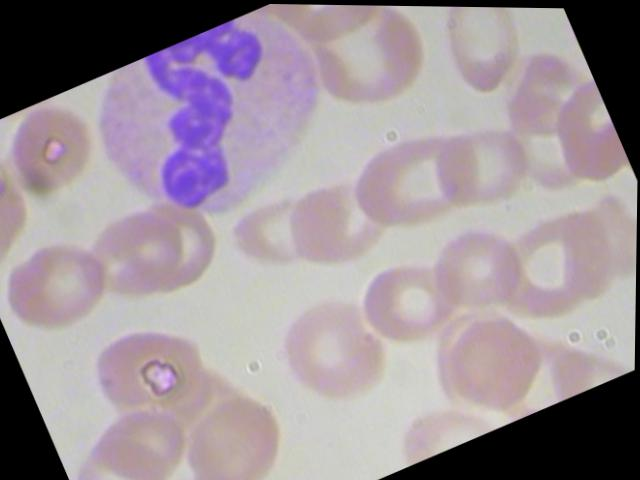Red Blood Cells: (80, 294, 234, 444), (332, 109, 475, 250), (269, 278, 410, 417), (0, 214, 128, 354), (153, 364, 308, 479), (74, 178, 204, 312), (268, 150, 397, 280), (214, 180, 344, 306), (426, 298, 555, 423), (412, 205, 541, 330), (414, 5, 546, 109), (349, 238, 465, 352), (528, 76, 633, 197)
White Blood Cells: (71, 1, 365, 254)
